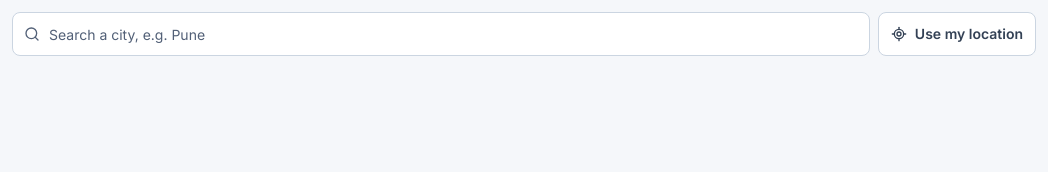
Test: LocationPicker › says search is unavailable when the geocoding service fails
The width and height of the screenshot is (1048, 172).
Type "Pune" into the dropdown.
click(441, 34); type("Pune")  # box [12,12,870,56]
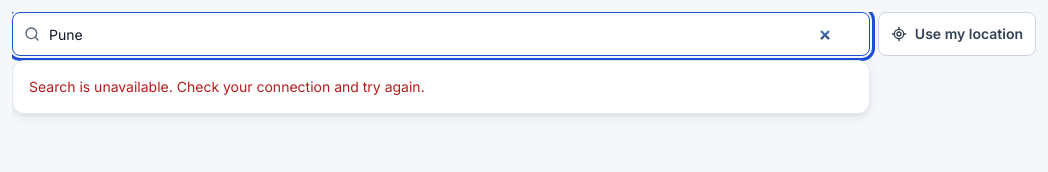
Expected: the list item "Search is unavailable. Check your connection and try again." is shown, [29,78,425,95]
